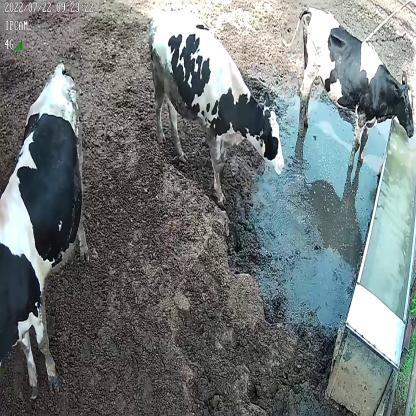cow: (0, 61, 88, 390), (147, 12, 284, 206), (280, 5, 414, 173)
